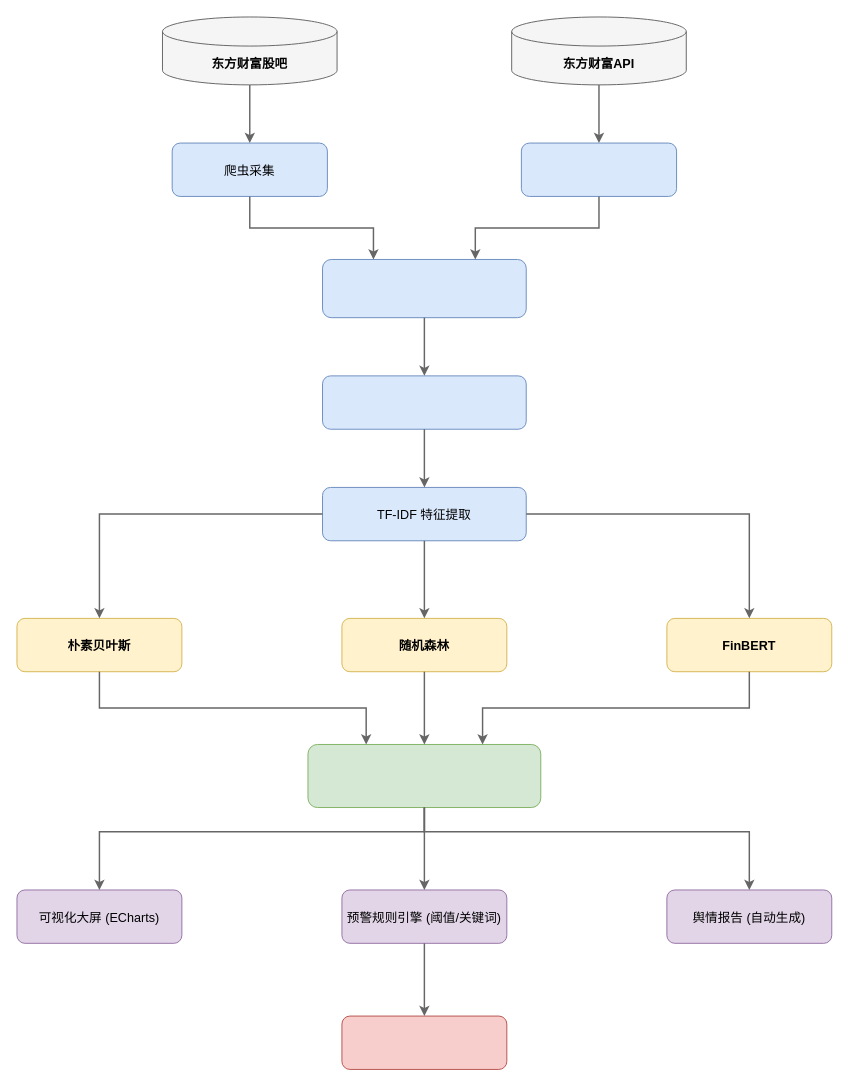
Some shapes in this 849 by 1086 pixel diagram are drawn without their labels. The centre of each missing label's shape, as x and y in pixels:
"jieba分词 + 停用词过滤" belongs at (x=424, y=402).
"处置工单闭环" belongs at (x=424, y=1042).
"情感标签 (正面 / 中性 / 负面)" belongs at (x=424, y=776).
"数据清洗 (去重/去空/去异常)" belongs at (x=424, y=288).
"行情获取" belongs at (x=598, y=169).
